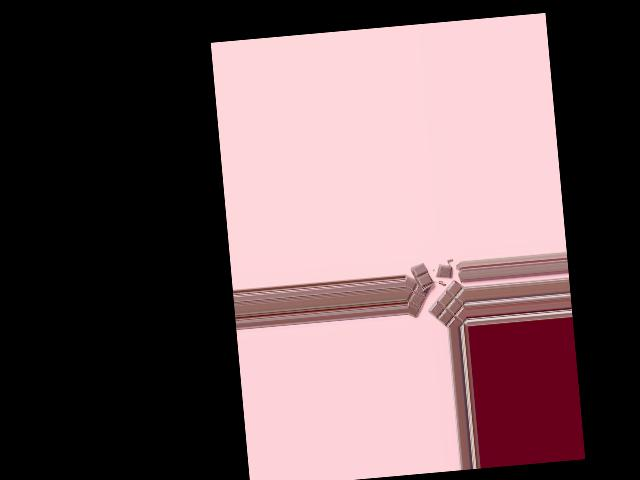chocolate: (407, 263, 467, 331)
